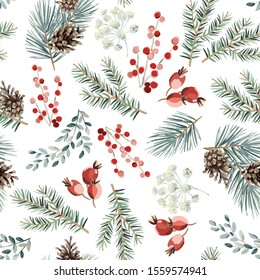Pc: (199, 146, 234, 188), (53, 21, 84, 53), (0, 90, 27, 120), (241, 161, 260, 187)
